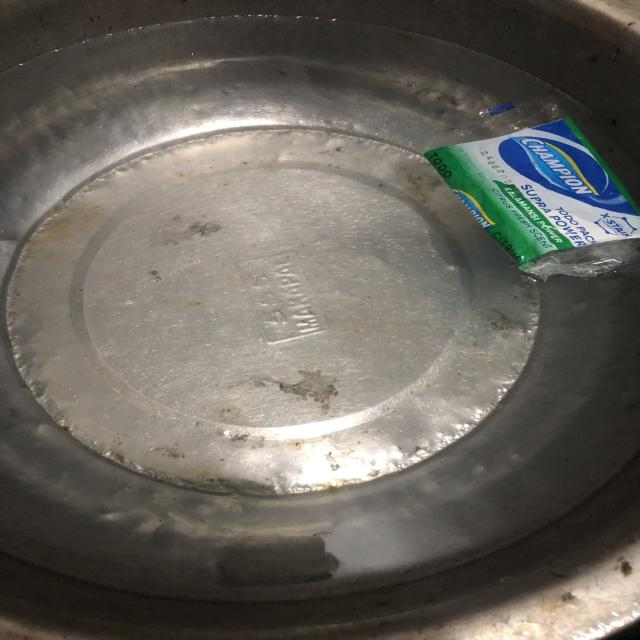Plastic Wrapper: (400, 76, 640, 295)
